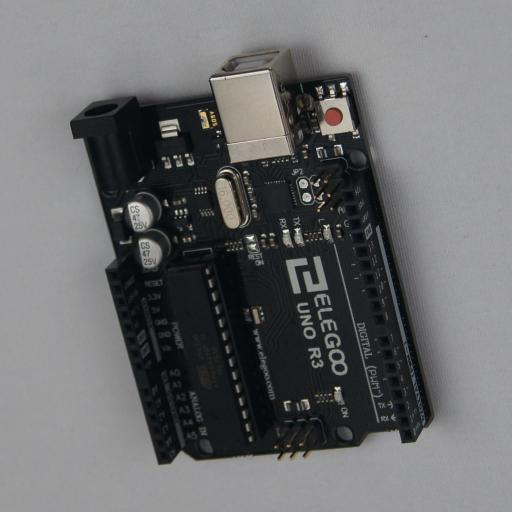Arduino Uno -Black-: (70, 49, 437, 465)
